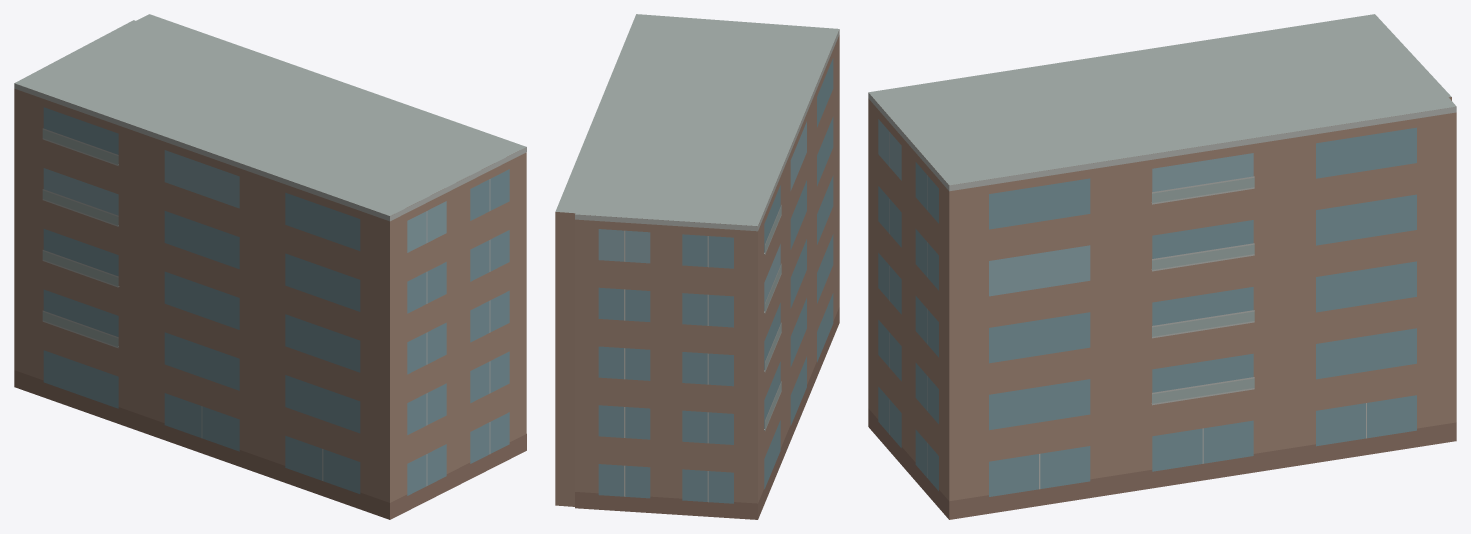
File: survey-upis-32898756.glb
3 renders of one model, left to right at view 1: azimuth 30°, elevation 25°; view 2: azimuth 150°, elevation 25°; view 3: azimuth 270°, elevation 25°, orthographic. The views are drawn at different scales.
Visible parts, largest first — view 1: survey-upis-32898756.tmp; view 2: survey-upis-32898756.tmp; view 3: survey-upis-32898756.tmp.
Part boxes in pixels (box(x1,y1,x2,y2)): survey-upis-32898756.tmp: box(14, 14, 526, 519); survey-upis-32898756.tmp: box(555, 14, 839, 519); survey-upis-32898756.tmp: box(868, 14, 1456, 519).
Bounding box in the file's own units: 15.4 × 14 × 22.33.
